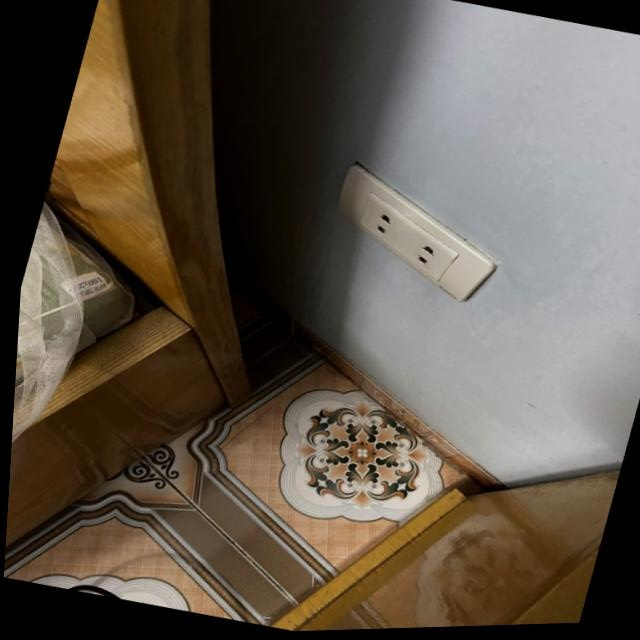outlet: (314, 156, 519, 313)
